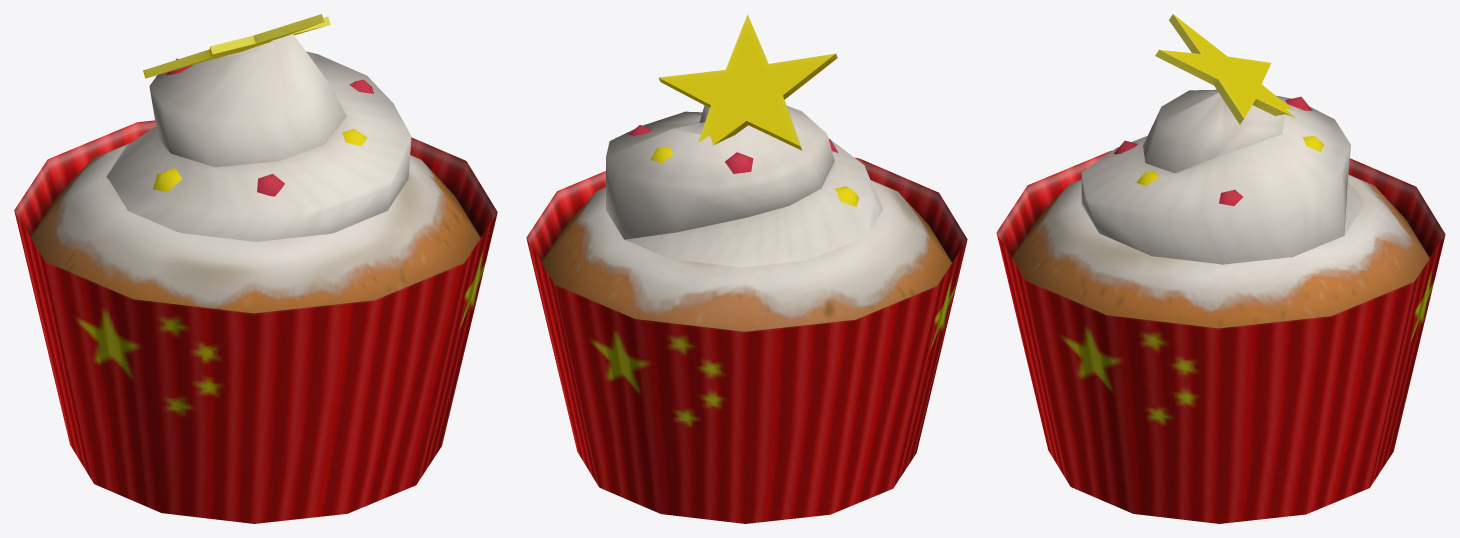
Rendered from A2_S1M1_0001_FlagCupcakes_China.fbx.
3 renders of one model, left to right at view 1: azimuth 30°, elevation 25°; view 2: azimuth 150°, elevation 25°; view 3: azimuth 270°, elevation 25°, orthographic. The views are drawn at different scales.
Visible parts, largest first — view 1: A2_S1M1_0001_FlagCupcakes_China; view 2: A2_S1M1_0001_FlagCupcakes_China; view 3: A2_S1M1_0001_FlagCupcakes_China.
Part boxes in pixels (x1,y1,x2,y2): A2_S1M1_0001_FlagCupcakes_China: (14,14,497,523); A2_S1M1_0001_FlagCupcakes_China: (526,14,967,523); A2_S1M1_0001_FlagCupcakes_China: (996,14,1445,523).
Bounding box in the file's own units: 10 × 10.22 × 10.
1 material, 1 textured.
